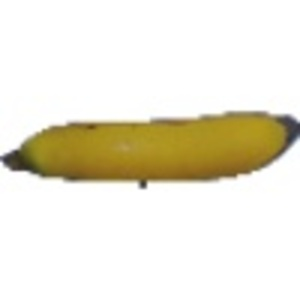banana: (1, 107, 299, 186)
